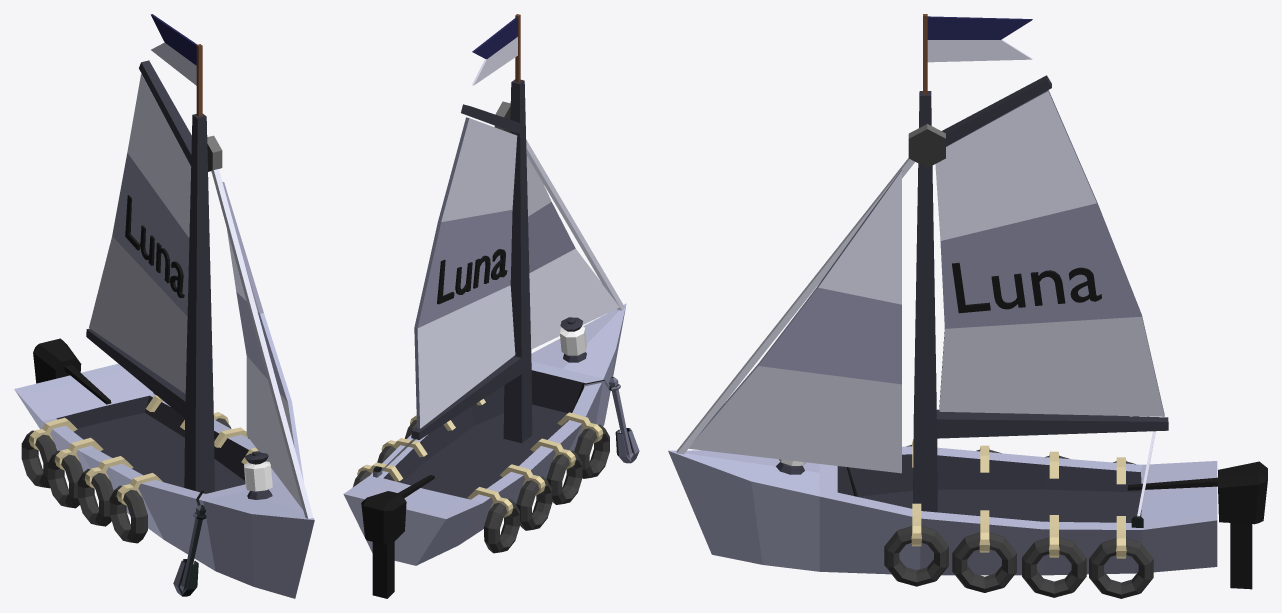
Rendered from M_Sailboat_Ship_Luna.fbx.
The picture shows the model from 3 angles, left to right: view 1: azimuth 30°, elevation 25°; view 2: azimuth 150°, elevation 25°; view 3: azimuth 270°, elevation 25°; orthographic projection. The views are drawn at different scales.
Visible parts, largest first — view 1: M_Sailboat_Ship_Luna; view 2: M_Sailboat_Ship_Luna; view 3: M_Sailboat_Ship_Luna.
Boxes of the visible parts, <box> form: M_Sailboat_Ship_Luna: <box>14,14,314,598</box>; M_Sailboat_Ship_Luna: <box>343,14,639,598</box>; M_Sailboat_Ship_Luna: <box>668,14,1267,598</box>.
Size of the model in its own units: 280 by 795 by 758.
